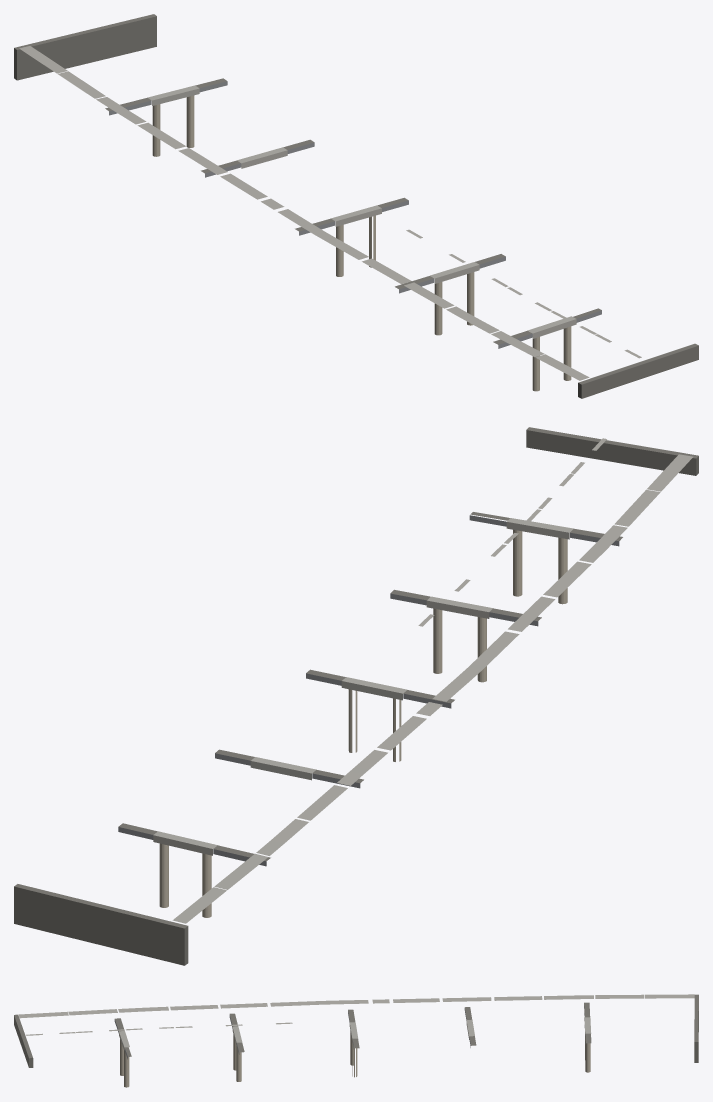
Rendered from br_r6_quesnell_2_lod2.gltf.
3 renders of one model, top to bottom at view 1: azimuth 30°, elevation 25°; view 2: azimuth 150°, elevation 25°; view 3: azimuth 270°, elevation 25°, orthographic. The views are drawn at different scales.
Parts seen in each view (by area): view 1: br_r6_quesnell_2_lod2; view 2: br_r6_quesnell_2_lod2; view 3: br_r6_quesnell_2_lod2.
Boxes of the visible parts, x1,y1,x2,y2 form: br_r6_quesnell_2_lod2: (14,14,698,398); br_r6_quesnell_2_lod2: (14,427,698,965); br_r6_quesnell_2_lod2: (14,994,698,1087).
Size of the model in its own units: 76.06 by 26.7 by 322.
